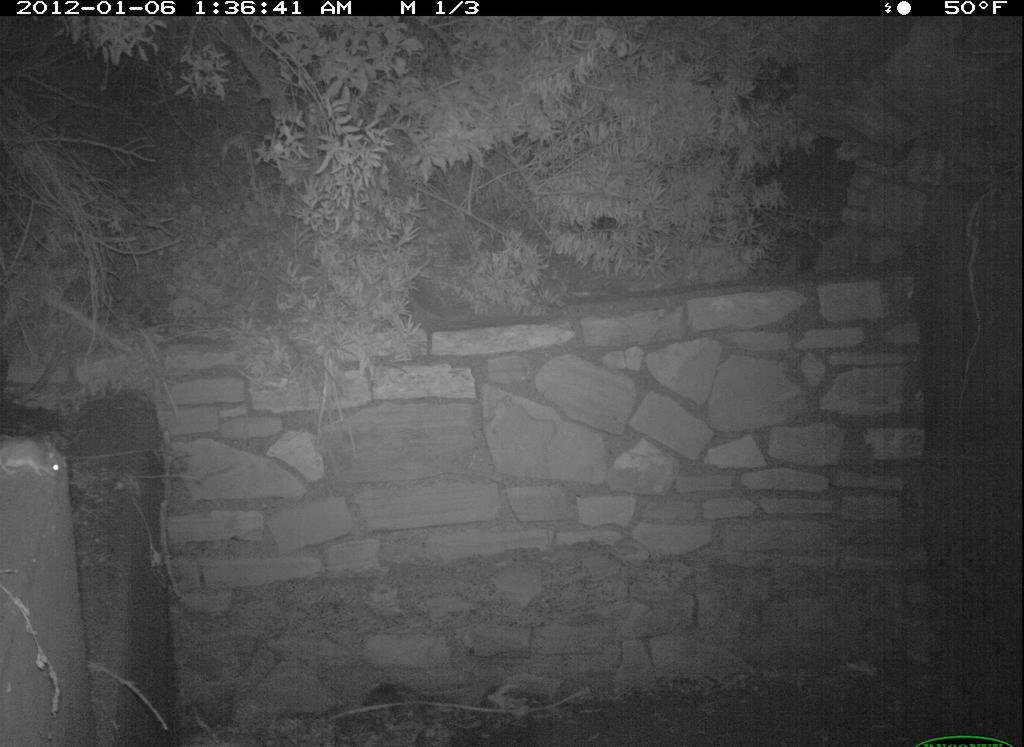rodent: (2, 417, 77, 489)
